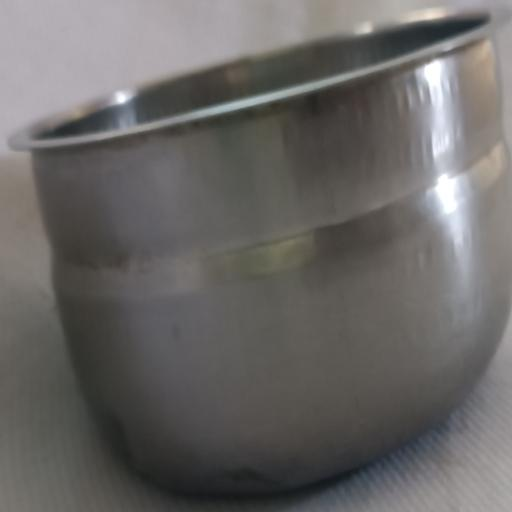vessel: (11, 10, 512, 493)
